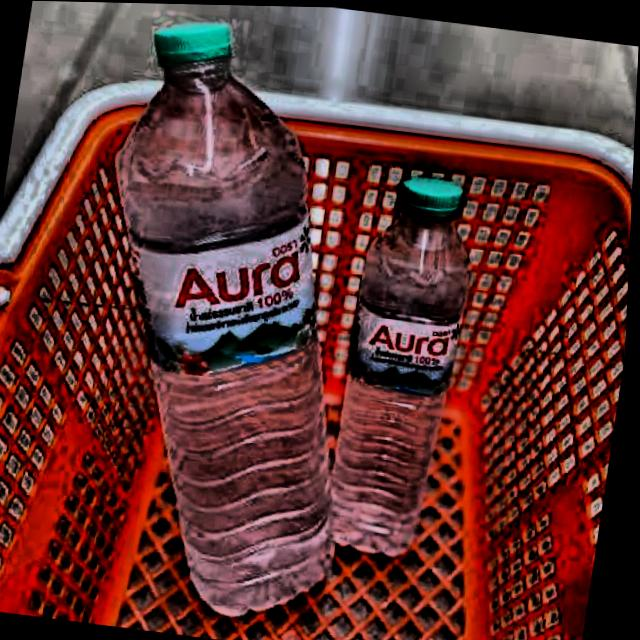Bottles: (39, 7, 412, 634), (322, 129, 506, 590)
